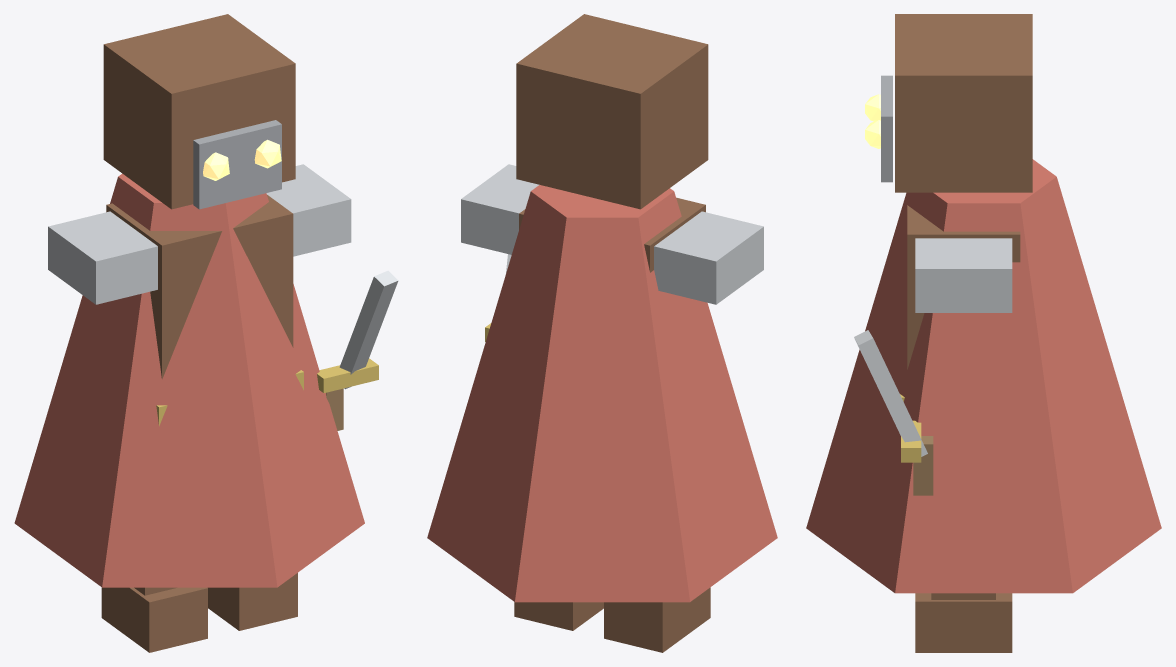
Rendered from raider.glb.
3 views of the same model, side by side, from view 1: azimuth 30°, elevation 25°; view 2: azimuth 150°, elevation 25°; view 3: azimuth 270°, elevation 25° (orthographic).
Visible parts, largest first — view 1: cloak, hood.001, torso.001, pauldron_l, boot_l.002, mask, pauldron_r, boot_r.002, blade, guard, eye_l.008, eye_r.008; view 2: cloak, hood.001, pauldron_l, pauldron_r, boot_l.002, boot_r.002, torso.001; view 3: cloak, hood.001, pauldron_r, boot_r.002, torso.001, blade, mask, hilt, guard.
Boxes of the visible parts, <box> form: cloak: <box>14,173,364,587</box>; hood.001: <box>103,14,295,209</box>; torso.001: <box>106,195,293,379</box>; pauldron_l: <box>48,211,157,304</box>; boot_l.002: <box>101,587,207,652</box>; mask: <box>193,120,281,209</box>; pauldron_r: <box>266,164,351,256</box>; boot_r.002: <box>208,573,297,630</box>; blade: <box>339,270,398,389</box>; guard: <box>317,358,378,393</box>; eye_l.008: <box>203,152,229,180</box>; eye_r.008: <box>254,139,281,168</box>; cloak: <box>427,185,777,602</box>; hood.001: <box>516,14,708,209</box>; pauldron_l: <box>654,211,763,304</box>; pauldron_r: <box>461,164,539,254</box>; boot_l.002: <box>604,587,710,652</box>; boot_r.002: <box>514,602,603,630</box>; torso.001: <box>519,197,705,272</box>; cloak: <box>806,159,1161,593</box>; hood.001: <box>895,14,1032,192</box>; pauldron_r: <box>915,238,1012,312</box>; boot_r.002: <box>915,593,1012,652</box>; torso.001: <box>907,205,1020,369</box>; blade: <box>854,330,927,456</box>; mask: <box>881,75,892,182</box>; hilt: <box>913,436,933,495</box>; guard: <box>901,420,921,462</box>.
Bounding box in the file's own units: 0.8111 × 1.56 × 0.88.
